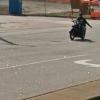Motorcycle: (61, 13, 97, 44)
